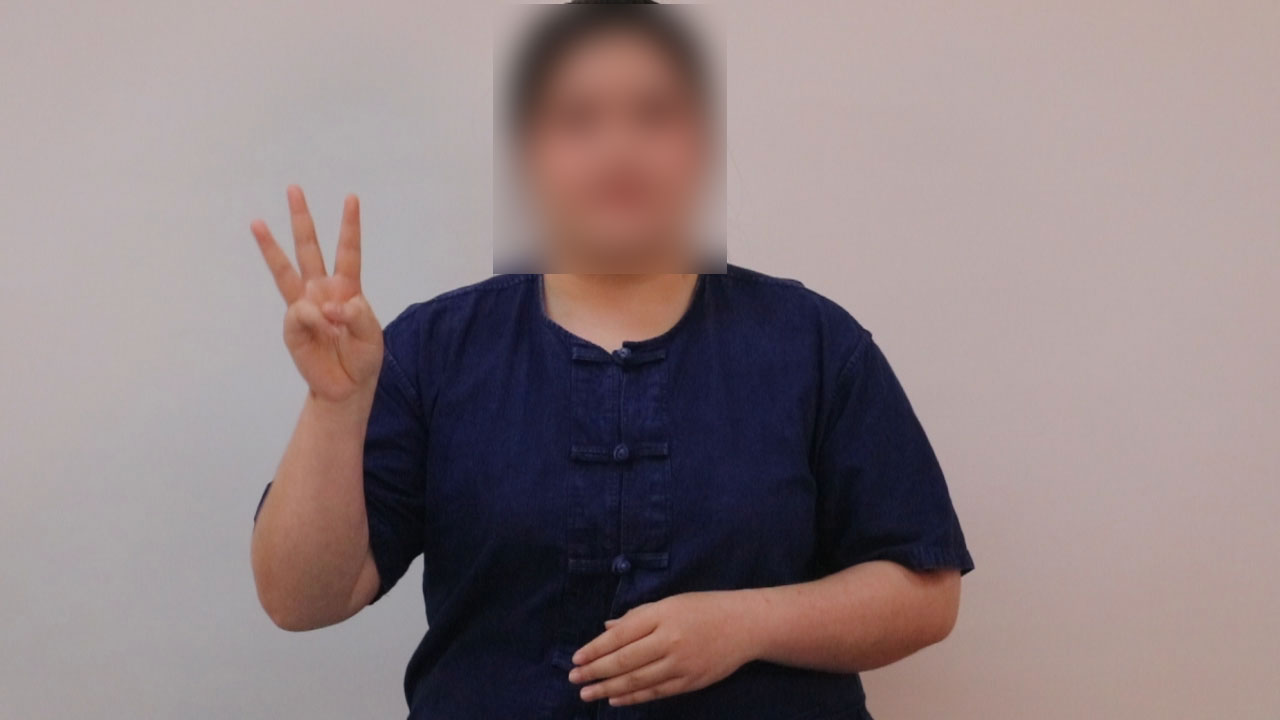wor: (241, 178, 392, 414)
